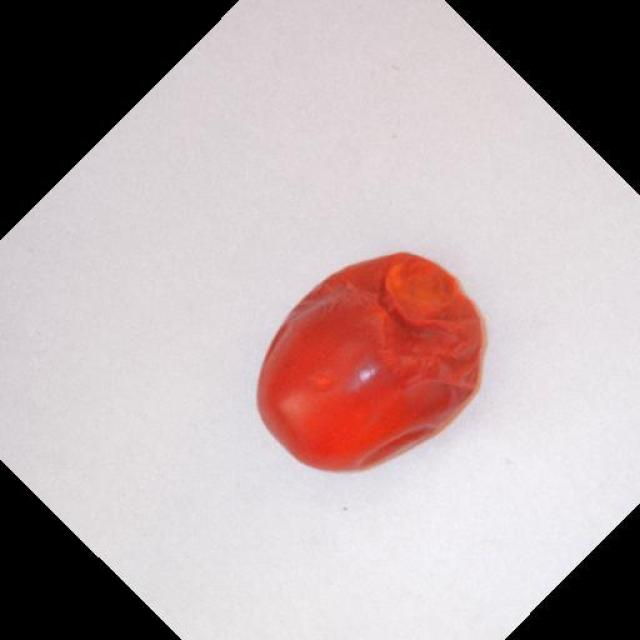Stale_tomato: (252, 242, 499, 476)
